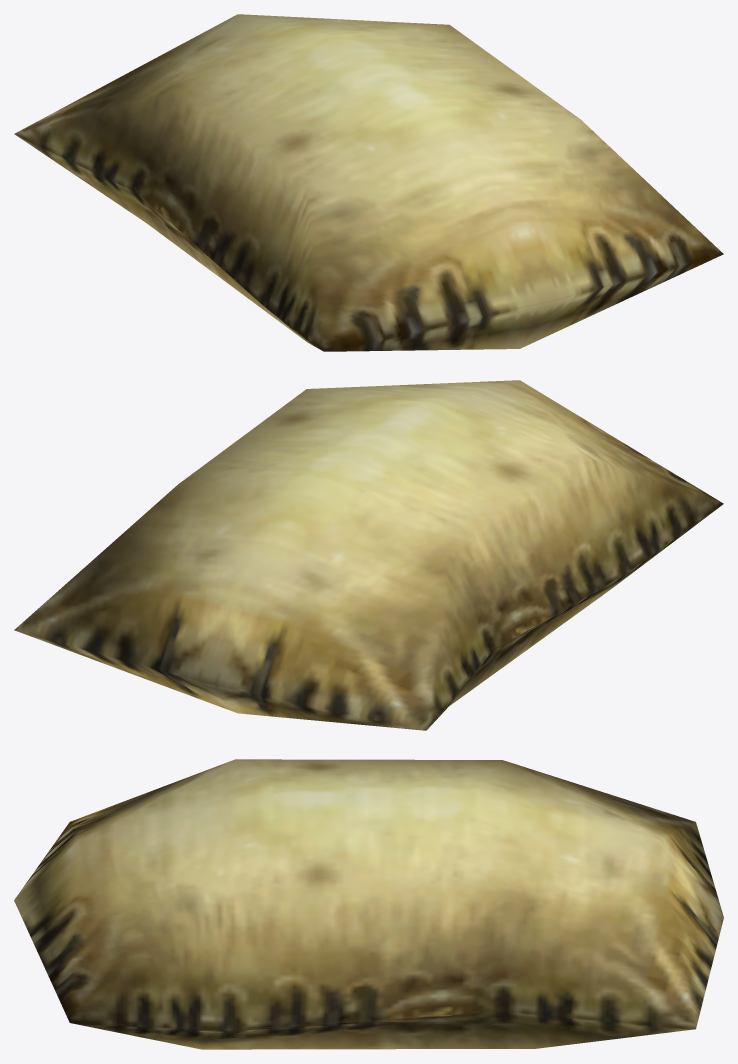
File: sack01.glb
3 views of the same model, one above another, from view 1: azimuth 30°, elevation 25°; view 2: azimuth 150°, elevation 25°; view 3: azimuth 270°, elevation 25° (orthographic). The views are drawn at different scales.
Size of the model in its own units: 0.6706 by 0.2678 by 0.9703.
1 material, 1 textured.
